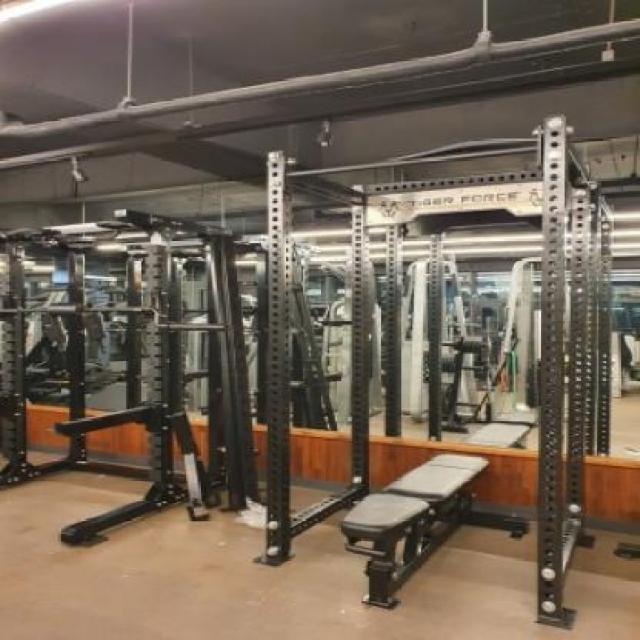smith machine: (266, 116, 599, 630), (3, 208, 259, 550)
